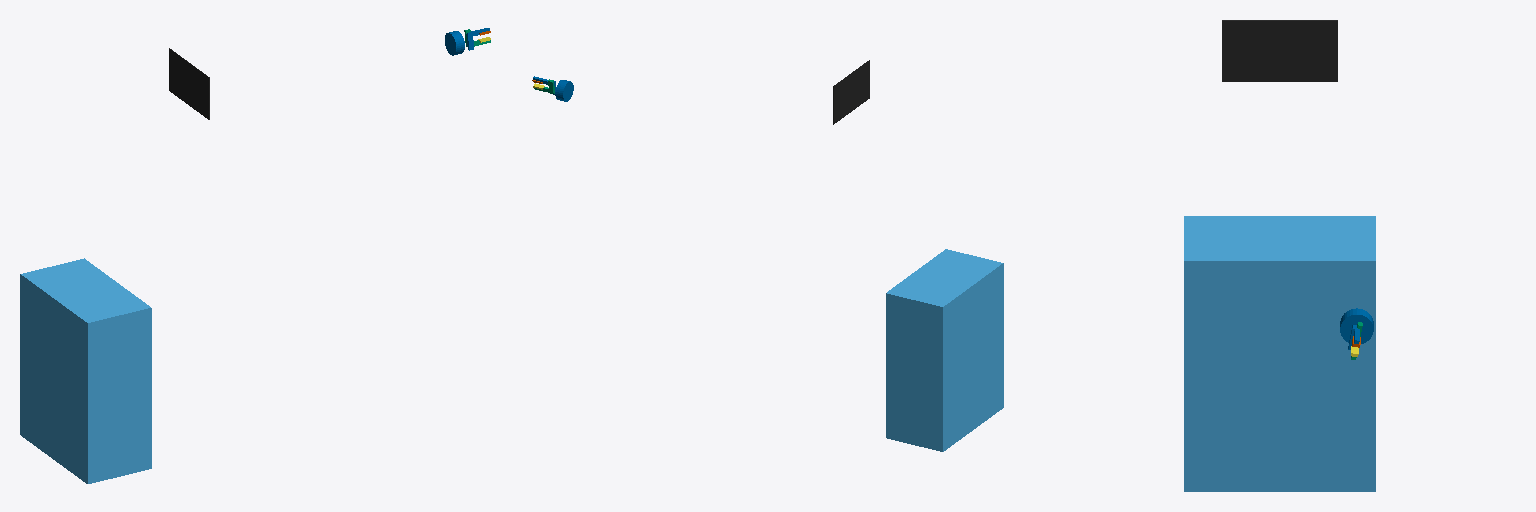
robot.urdf — sawyer:
<?xml version="1.0" encoding="UTF-8"?>
<robot name="sawyer">
  <material name="black">
    <color rgba="0 0 0 1"/>
  </material>
  <material name="darkgray">
    <color rgba=".2 .2 .2 1"/>
  </material>
  <material name="darkred">
    <color rgba=".5 .1 .1 1"/>
  </material>
  <material name="sawyer_red">
    <color rgba=".5 .1 .1 1"/>
  </material>
  <material name="sawyer_gray">
    <color rgba="0.75294 0.75294 0.75294 1"/>
  </material>
  <joint name="controller_box_fixed" type="fixed">
    <origin xyz="0. 0. 0." rpy="0. 0. 0."/>
    <parent link="base"/>
    <child link="controller_box"/>
  </joint>
  <joint name="display_joint" type="fixed">
    <origin xyz="0.03 0. 0.105" rpy="1.5707964 0. 1.5707964"/>
    <parent link="head"/>
    <child link="screen"/>
  </joint>
  <joint name="head_head_camera" type="fixed">
    <origin xyz="0.0228027 0. 0.216572 " rpy="-1.5707964 -0.5585038 -3.1415927"/>
    <parent link="head"/>
    <child link="sawyer_head_camera"/>
  </joint>
  <joint name="head_pan" type="revolute">
    <origin xyz="0. 0. 0.2965" rpy="0. 0. 0."/>
    <parent link="right_l0"/>
    <child link="head"/>
    <axis xyz="0. 0. 1."/>
    <limit lower="-5.0951997" upper="0.9064" effort="8." velocity="1.8"/>
  </joint>
  <joint name="pedestal_feet_fixed" type="fixed">
    <origin xyz="0. 0. 0." rpy="0. 0. 0."/>
    <parent link="base"/>
    <child link="pedestal_feet"/>
  </joint>
  <joint name="pedestal_fixed" type="fixed">
    <origin xyz="0. 0. 0." rpy="0. 0. 0."/>
    <parent link="base"/>
    <child link="pedestal"/>
  </joint>
  <joint name="right_arm_mount" type="fixed">
    <origin xyz="0. 0. 0." rpy="0. 0. 0."/>
    <parent link="base"/>
    <child link="right_arm_base_link"/>
  </joint>
  <joint name="right_connector_plate_base_joint" type="fixed">
    <origin xyz="0. 0. 0.0018" rpy="0. 0. 0."/>
    <parent link="right_gripper_base"/>
    <child link="right_connector_plate_base"/>
  </joint>
  <joint name="right_connector_plate_mount_joint" type="fixed">
    <origin xyz="0. 0. 0.0176" rpy="0. 0. 0."/>
    <parent link="right_connector_plate_base"/>
    <child link="right_connector_plate_mount"/>
  </joint>
  <joint name="right_electric_gripper_base_joint" type="fixed">
    <origin xyz="0. 0. 0." rpy="0. 0. 0."/>
    <parent link="right_connector_plate_mount"/>
    <child link="right_electric_gripper_base"/>
  </joint>
  <joint name="right_gripper_base_joint" type="fixed">
    <origin xyz="0. 0. -0.005" rpy="0. 0. 0."/>
    <parent link="sawyer_right_hand"/>
    <child link="right_gripper_base"/>
  </joint>
  <joint name="right_gripper_l_finger_joint" type="prismatic">
    <origin xyz="0.003 -0.0015 0.04552" rpy="0. 0. 0."/>
    <parent link="right_electric_gripper_base"/>
    <child link="right_gripper_l_finger"/>
    <axis xyz="0. 1. 0."/>
    <limit lower="0." upper="0.020833" effort="20." velocity="5."/>
  </joint>
  <joint name="right_gripper_l_finger_tip_joint" type="fixed">
    <origin xyz="0. 0.01725 0.075 " rpy="0. 0. 0."/>
    <parent link="right_gripper_l_finger"/>
    <child link="right_gripper_l_finger_tip"/>
  </joint>
  <joint name="right_gripper_r_finger_joint" type="prismatic">
    <origin xyz="0.003 0.0015 0.04552" rpy="0. 0. 0."/>
    <parent link="right_electric_gripper_base"/>
    <child link="right_gripper_r_finger"/>
    <axis xyz="0. 1. 0."/>
    <limit lower="-0.020833" upper="0." effort="0." velocity="5."/>
  </joint>
  <joint name="right_gripper_r_finger_tip_joint" type="fixed">
    <origin xyz="0. -0.01725 0.075 " rpy="0. 0. 0."/>
    <parent link="right_gripper_r_finger"/>
    <child link="right_gripper_r_finger_tip"/>
  </joint>
  <joint name="right_gripper_tip_joint" type="fixed">
    <origin xyz="0. 0. 0.14062" rpy="0. 0. 0."/>
    <parent link="right_gripper_base"/>
    <child link="right_gripper_tip"/>
  </joint>
  <joint name="right_j0" type="revolute">
    <origin xyz="0. 0. 0.08" rpy="0. 0. 0."/>
    <parent link="right_arm_base_link"/>
    <child link="right_l0"/>
    <axis xyz="0. 0. 1."/>
    <limit lower="-3.0502998" upper="3.0502998" effort="80." velocity="1.74"/>
  </joint>
  <joint name="right_j1" type="revolute">
    <origin xyz="0.081 0.05 0.237" rpy="-1.5707964 1.5707964 0. "/>
    <parent link="right_l0"/>
    <child link="right_l1"/>
    <axis xyz="0. 0. 1."/>
    <limit lower="-3.8094999" upper="2.2736" effort="80." velocity="1.3279999"/>
  </joint>
  <joint name="right_j1_2" type="fixed">
    <origin xyz="0. 0. 0." rpy="0. 0. 0."/>
    <parent link="right_l1"/>
    <child link="right_l1_2"/>
  </joint>
  <joint name="right_j2" type="revolute">
    <origin xyz="0. -0.14 0.1425" rpy="1.5707964 0. 0. "/>
    <parent link="right_l1"/>
    <child link="right_l2"/>
    <axis xyz="0. 0. 1."/>
    <limit lower="-3.0425998" upper="3.0425998" effort="40." velocity="1.957"/>
  </joint>
  <joint name="right_j2_2" type="fixed">
    <origin xyz="0. 0. 0." rpy="0. 0. 0."/>
    <parent link="right_l2"/>
    <child link="right_l2_2"/>
  </joint>
  <joint name="right_j3" type="revolute">
    <origin xyz="0. -0.042 0.26 " rpy="-1.5707964 0. 0. "/>
    <parent link="right_l2"/>
    <child link="right_l3"/>
    <axis xyz="0. 0. 1."/>
    <limit lower="-3.0438999" upper="3.0438999" effort="40." velocity="1.957"/>
  </joint>
  <joint name="right_j4" type="revolute">
    <origin xyz="0. -0.125 -0.1265" rpy="1.5707964 0. 0. "/>
    <parent link="right_l3"/>
    <child link="right_l4"/>
    <axis xyz="0. 0. 1."/>
    <limit lower="-2.9760998" upper="2.9760998" effort="9." velocity="3.4849998"/>
  </joint>
  <joint name="right_j4_2" type="fixed">
    <origin xyz="0. 0. 0." rpy="0. 0. 0."/>
    <parent link="right_l4"/>
    <child link="right_l4_2"/>
  </joint>
  <joint name="right_j5" type="revolute">
    <origin xyz="0. 0.031 0.275" rpy="-1.5707964 0. 0. "/>
    <parent link="right_l4"/>
    <child link="right_l5"/>
    <axis xyz="0. 0. 1."/>
    <limit lower="-2.9760998" upper="2.9760998" effort="9." velocity="3.4849998"/>
  </joint>
  <joint name="right_j6" type="revolute">
    <origin xyz="0. -0.11 0.1053" rpy="-1.5707963 -0.17453 -3.1415854"/>
    <parent link="right_l5"/>
    <child link="right_l6"/>
    <axis xyz="0. 0. 1."/>
    <limit lower="-4.7123996" upper="4.7123996" effort="9." velocity="4.5450003"/>
  </joint>
  <joint name="right_l0_right_torso_itb" type="fixed">
    <origin xyz="-0.055 0. 0.22 " rpy="0. -1.5707963 0. "/>
    <parent link="right_l0"/>
    <child link="sawyer_right_torso_itb"/>
  </joint>
  <joint name="right_l4_right_arm_itb" type="fixed">
    <origin xyz="-0.055 0. 0.075" rpy="0. -1.5707963 0. "/>
    <parent link="right_l4"/>
    <child link="sawyer_right_arm_itb"/>
  </joint>
  <joint name="right_l5_right_hand_camera" type="fixed">
    <origin xyz="0.039552 -0.033 0.0695 " rpy="3.1415927 0. 3.1415927"/>
    <parent link="right_l5"/>
    <child link="sawyer_right_hand_camera"/>
  </joint>
  <joint name="right_l5_right_wrist" type="fixed">
    <origin xyz="0. 0. 0.10541" rpy="1.5707964 0. 1.5707964"/>
    <parent link="right_l5"/>
    <child link="sawyer_right_wrist"/>
  </joint>
  <joint name="right_l6_right_hand" type="fixed">
    <origin xyz="0. 0. 0.0245" rpy="0. 0. 1.570796"/>
    <parent link="right_l6"/>
    <child link="sawyer_right_hand"/>
  </joint>
  <joint name="root_joint" type="fixed">
    <origin xyz="0. 0. 0." rpy="0. 0. 0."/>
    <parent link="sawyer"/>
    <child link="base"/>
  </joint>
  <joint name="torso_t0" type="fixed">
    <origin xyz="0. 0. 0." rpy="0. 0. 0."/>
    <parent link="base"/>
    <child link="torso"/>
  </joint>
  <link name="base"/>
  <link name="controller_box">
    <inertial>
      <origin xyz="0. 0. 0." rpy="0. 0. 0."/>
      <mass value="0.000001"/>
      <inertia ixx="0." ixy="0." ixz="0." iyy="0." iyz="0." izz="0."/>
    </inertial>
    <visual>
      <origin xyz="-0.325 0. -0.38 " rpy="0. 0. 0."/>
      <geometry>
        <box size="0.22 0.4 0.53"/>
      </geometry>
    </visual>
    <collision>
      <origin xyz="-0.325 0. -0.38 " rpy="0. 0. 0."/>
      <geometry>
        <box size="0.22 0.4 0.53"/>
      </geometry>
    </collision>
  </link>
  <link name="head">
    <inertial>
      <origin xyz="0. 0. 0." rpy="0. 0. 0."/>
      <mass value="1.5795"/>
      <inertia ixx="0." ixy="0." ixz="0." iyy="0." iyz="0." izz="0."/>
    </inertial>
    <visual>
      <origin xyz="0. 0. 0." rpy="0. 0. 0."/>
      <geometry>
        <mesh filename="meshes/head_visuals.obj" scale="1. 1. 1."/>
      </geometry>
    </visual>
    <collision>
      <origin xyz="0. 0. 0.08" rpy="0. 0. 0."/>
      <geometry>
        <sphere radius="0.18"/>
      </geometry>
    </collision>
  </link>
  <link name="pedestal">
    <inertial>
      <origin xyz="0. 0. 0." rpy="0. 0. 0."/>
      <mass value="60.8639793"/>
      <inertia ixx="0." ixy="0." ixz="0." iyy="0." iyz="0." izz="0."/>
    </inertial>
    <visual>
      <origin xyz="0.26 0.345 -0.91488" rpy="1.5707964 0. -1.5707964"/>
      <geometry>
        <mesh filename="meshes/pedestal_visuals.obj" scale="1. 1. 1."/>
      </geometry>
      <material name="darkgray"/>
    </visual>
    <collision>
      <origin xyz="-0.02 0. -0.29" rpy="0. 0. 0."/>
      <geometry>
        <cylinder radius="0.18" length="0.62"/>
      </geometry>
    </collision>
  </link>
  <link name="pedestal_feet">
    <inertial>
      <origin xyz="0. 0. 0." rpy="0. 0. 0."/>
      <mass value="0.000001"/>
      <inertia ixx="0." ixy="0." ixz="0." iyy="0." iyz="0." izz="0."/>
    </inertial>
    <collision>
      <origin xyz="-0.1225 0. -0.758 " rpy="0. 0. 0."/>
      <geometry>
        <box size="0.77 0.7 0.31"/>
      </geometry>
    </collision>
  </link>
  <link name="right_arm_base_link">
    <inertial>
      <origin xyz="0. 0. 0." rpy="0. 0. 0."/>
      <mass value="2.0687001"/>
      <inertia ixx="0." ixy="0." ixz="0." iyy="0." iyz="0." izz="0."/>
    </inertial>
    <visual>
      <origin xyz="0. 0. 0." rpy="0. 0. 0."/>
      <geometry>
        <mesh filename="meshes/right_arm_base_link_visuals.obj" scale="1. 1. 1."/>
      </geometry>
      <material name="sawyer_red"/>
    </visual>
    <collision>
      <origin xyz="0. 0. 0.12" rpy="0. 0. 0."/>
      <geometry>
        <cylinder radius="0.08" length="0.24"/>
      </geometry>
    </collision>
  </link>
  <link name="right_connector_plate_base">
    <visual>
      <origin xyz="0. 0. 0." rpy="0. 0. 0."/>
      <geometry>
        <mesh filename="meshes/right_connector_plate_base_visuals.obj" scale="1. 1. 1."/>
      </geometry>
      <material name="black">
        <color rgba="0.05 0.05 0.05 1"/>
      </material>
    </visual>
    <collision>
      <origin xyz="0. 0. 0.0135" rpy="0. 0. 0."/>
      <geometry>
        <cylinder radius="0.04" length="0.0302"/>
      </geometry>
      <material name="darkred">
        <color rgba=".5 .1 .1 1"/>
      </material>
    </collision>
  </link>
  <link name="right_connector_plate_mount">
    <inertial>
      <origin xyz="0. 0. 0." rpy="0. 0. 0."/>
      <mass value="0.000001"/>
      <inertia ixx="0." ixy="0." ixz="0." iyy="0." iyz="0." izz="0."/>
    </inertial>
  </link>
  <link name="right_electric_gripper_base">
    <inertial>
      <origin xyz="0. 0. 0." rpy="0. 0. 0."/>
      <mass value="0.000002"/>
      <inertia ixx="0." ixy="0." ixz="0." iyy="0." iyz="0." izz="0."/>
    </inertial>
    <visual>
      <origin xyz="0. 0. 0." rpy="0. 0. 0."/>
      <geometry>
        <mesh filename="meshes/right_electric_gripper_base_visuals.obj" scale="1. 1. 1."/>
      </geometry>
            <material name="darkred">
        <color rgba=".5 .1 .1 1"/>
      </material>
    </visual>
    <collision>
      <origin xyz="0.004 0. 0.025" rpy="1.5707964 -0.0000001 3.1415927"/>
      <geometry>
        <cylinder radius="0.029" length="0.1"/>
      </geometry>
    </collision>
  </link>
  <link name="right_gripper_base">
    <inertial>
      <origin xyz="0. 0. 0." rpy="0. 0. 0."/>
      <mass value="0.47"/>
      <inertia ixx="0." ixy="0." ixz="0." iyy="0." iyz="0." izz="0."/>
    </inertial>
  </link>
  <link name="right_gripper_l_finger">
    <inertial>
      <origin xyz="0. 0. 0." rpy="0. 0. 0."/>
      <mass value="0.001"/>
      <inertia ixx="0." ixy="0." ixz="0." iyy="0." iyz="0." izz="0."/>
    </inertial>
    <visual>
      <origin xyz="0. 0. 0." rpy="0. 0. 3.1415925"/>
      <geometry>
        <mesh filename="meshes/right_gripper_l_finger_visuals.obj" scale="1. 1. 1."/>
      </geometry>
    </visual>
    <visual>
      <origin xyz="0. 0.01725 0.04 " rpy="0. 0. 3.1415925"/>
      <geometry>
        <box size="0.01 0.0135 0.075 "/>
      </geometry>
    </visual>
    <visual>
      <origin xyz="-0.005 -0.003 0.0083" rpy="0. 0. 3.1415925"/>
      <geometry>
        <box size="0.01 0.05 0.017"/>
      </geometry>
    </visual>
    <collision>
      <origin xyz="0. 0.01725 0.04 " rpy="0. 0. 3.1415925"/>
      <geometry>
        <box size="0.01 0.0135 0.075 "/>
      </geometry>
    </collision>
    <collision>
      <origin xyz="-0.005 -0.003 0.0083" rpy="0. 0. 3.1415925"/>
      <geometry>
        <box size="0.01 0.05 0.017"/>
      </geometry>
    </collision>
  </link>
  <link name="right_gripper_l_finger_tip">
    <inertial>
      <origin xyz="0. 0. 0." rpy="0. 0. 0."/>
      <mass value="0.001"/>
      <inertia ixx="0." ixy="0." ixz="0." iyy="0." iyz="0." izz="0."/>
    </inertial>
    <visual>
      <origin xyz="0. 0. 0." rpy="0. 0. -3.1415925"/>
      <geometry>
        <mesh filename="meshes/right_gripper_l_finger_tip_visuals.obj" scale="1. 1. 1."/>
      </geometry>
    </visual>
    <visual>
      <origin xyz="0. -0.0045 -0.015 " rpy="0. 0. -3.1415925"/>
      <geometry>
        <box size="0.016 0.007 0.037"/>
      </geometry>
    </visual>
    <collision>
      <origin xyz="0. -0.0045 -0.015 " rpy="0. 0. -3.1415925"/>
      <geometry>
        <box size="0.016 0.007 0.037"/>
      </geometry>
    </collision>
  </link>
  <link name="right_gripper_r_finger">
    <inertial>
      <origin xyz="0. 0. 0." rpy="0. 0. 0."/>
      <mass value="0.001"/>
      <inertia ixx="0." ixy="0." ixz="0." iyy="0." iyz="0." izz="0."/>
    </inertial>
    <visual>
      <origin xyz="0. 0. 0." rpy="0. 0. 0."/>
      <geometry>
        <mesh filename="meshes/right_gripper_r_finger_visuals.obj" scale="1. 1. 1."/>
      </geometry>
    </visual>
    <visual>
      <origin xyz="0. -0.01725 0.04 " rpy="0. 0. 0."/>
      <geometry>
        <box size="0.01 0.0135 0.075 "/>
      </geometry>
    </visual>
    <visual>
      <origin xyz="0.005 0.003 0.0083" rpy="0. 0. 0."/>
      <geometry>
        <box size="0.01 0.05 0.017"/>
      </geometry>
    </visual>
    <collision>
      <origin xyz="0. -0.01725 0.04 " rpy="0. 0. 0."/>
      <geometry>
        <box size="0.01 0.0135 0.075 "/>
      </geometry>
    </collision>
    <collision>
      <origin xyz="0.005 0.003 0.0083" rpy="0. 0. 0."/>
      <geometry>
        <box size="0.01 0.05 0.017"/>
      </geometry>
    </collision>
  </link>
  <link name="right_gripper_r_finger_tip">
    <inertial>
      <origin xyz="0. 0. 0." rpy="0. 0. 0."/>
      <mass value="0.001"/>
      <inertia ixx="0." ixy="0." ixz="0." iyy="0." iyz="0." izz="0."/>
    </inertial>
    <visual>
      <origin xyz="0. 0. 0." rpy="0. 0. 0."/>
      <geometry>
        <mesh filename="meshes/right_gripper_r_finger_tip_visuals.obj" scale="1. 1. 1."/>
      </geometry>
    </visual>
    <visual>
      <origin xyz="0. 0.0045 -0.015 " rpy="0. 0. 0."/>
      <geometry>
        <box size="0.016 0.007 0.037"/>
      </geometry>
    </visual>
    <collision>
      <origin xyz="0. 0.0045 -0.015 " rpy="0. 0. 0."/>
      <geometry>
        <box size="0.016 0.007 0.037"/>
      </geometry>
    </collision>
  </link>
  <link name="right_gripper_tip">
    <inertial>
      <origin xyz="0. 0. 0." rpy="0. 0. 0."/>
      <mass value="0.000002"/>
      <inertia ixx="0." ixy="0." ixz="0." iyy="0." iyz="0." izz="0."/>
    </inertial>
  </link>
  <link name="right_l0">
    <inertial>
      <origin xyz="0. 0. 0." rpy="0. 0. 0."/>
      <mass value="5.3213"/>
      <inertia ixx="0." ixy="0." ixz="0." iyy="0." iyz="0." izz="0."/>
    </inertial>
    <visual>
      <origin xyz="0. 0. 0." rpy="0. 0. 0."/>
      <geometry>
        <mesh filename="meshes/right_l0_visuals.obj" scale="1. 1. 1."/>
      </geometry>
      <material name="sawyer_red"/>
    </visual>
    <collision>
      <origin xyz="0.08 0. 0.23" rpy="0. 0. 0."/>
      <geometry>
        <sphere radius="0.07"/>
      </geometry>
    </collision>
  </link>
  <link name="right_l1">
    <inertial>
      <origin xyz="0. 0. 0." rpy="0. 0. 0."/>
      <mass value="4.5050001"/>
      <inertia ixx="0." ixy="0." ixz="0." iyy="0." iyz="0." izz="0."/>
    </inertial>
    <visual>
      <origin xyz="0. 0. 0." rpy="0. 0. 0."/>
      <geometry>
        <mesh filename="meshes/right_l1_visuals.obj" scale="1. 1. 1."/>
      </geometry>
      <material name="sawyer_red"/>
    </visual>
    <collision>
      <origin xyz="0. 0. 0.1225" rpy="0. 0. 0."/>
      <geometry>
        <sphere radius="0.07"/>
      </geometry>
    </collision>
  </link>
  <link name="right_l1_2">
    <inertial>
      <origin xyz="0. 0. 0." rpy="0. 0. 0."/>
      <mass value="0."/>
      <inertia ixx="0." ixy="0." ixz="0." iyy="0." iyz="0." izz="0."/>
    </inertial>
    <collision>
      <origin xyz="0. 0. 0.035" rpy="0. 0. 0."/>
      <geometry>
        <cylinder radius="0.07" length="0.14"/>
      </geometry>
    </collision>
  </link>
  <link name="right_l2">
    <inertial>
      <origin xyz="0. 0. 0." rpy="0. 0. 0."/>
      <mass value="1.745"/>
      <inertia ixx="0." ixy="0." ixz="0." iyy="0." iyz="0." izz="0."/>
    </inertial>
    <visual>
      <origin xyz="0. 0. 0." rpy="0. 0. 0."/>
      <geometry>
        <mesh filename="meshes/right_l2_visuals.obj" scale="1. 1. 1."/>
      </geometry>
      <material name="sawyer_red"/>
    </visual>
    <collision>
      <origin xyz="0. 0. 0.08" rpy="0. 0. 0."/>
      <geometry>
        <cylinder radius="0.06" length="0.34"/>
      </geometry>
    </collision>
  </link>
  <link name="right_l2_2">
    <inertial>
      <origin xyz="0. 0. 0." rpy="0. 0. 0."/>
      <mass value="0."/>
      <inertia ixx="0." ixy="0." ixz="0." iyy="0." iyz="0." izz="0."/>
    </inertial>
    <collision>
      <origin xyz="0. 0. 0.26" rpy="0. 0. 0."/>
      <geometry>
        <sphere radius="0.06"/>
      </geometry>
    </collision>
  </link>
  <link name="right_l3">
    <inertial>
      <origin xyz="0. 0. 0." rpy="0. 0. 0."/>
      <mass value="2.5097001"/>
      <inertia ixx="0." ixy="0." ixz="0." iyy="0." iyz="0." izz="0."/>
    </inertial>
    <visual>
      <origin xyz="0. 0. 0." rpy="0. 0. 0."/>
      <geometry>
        <mesh filename="meshes/right_l3_visuals.obj" scale="1. 1. 1."/>
      </geometry>
      <material name="sawyer_red"/>
    </visual>
    <collision>
      <origin xyz="0. -0.01 -0.12" rpy="0. 0. 0."/>
      <geometry>
        <sphere radius="0.06"/>
      </geometry>
    </collision>
  </link>
  <link name="right_l4">
    <inertial>
      <origin xyz="0. 0. 0." rpy="0. 0. 0."/>
      <mass value="1.1136"/>
      <inertia ixx="0." ixy="0." ixz="0." iyy="0." iyz="0." izz="0."/>
    </inertial>
    <visual>
      <origin xyz="0. 0. 0." rpy="0. 0. 0."/>
      <geometry>
        <mesh filename="meshes/right_l4_visuals.obj" scale="1. 1. 1."/>
      </geometry>
      <material name="sawyer_red"/>
    </visual>
    <collision>
      <origin xyz="0. 0. 0.11" rpy="0. 0. 0."/>
      <geometry>
        <cylinder radius="0.045" length="0.3"/>
      </geometry>
    </collision>
  </link>
  <link name="right_l4_2">
    <inertial>
      <origin xyz="0. 0. 0." rpy="0. 0. 0."/>
      <mass value="0."/>
      <inertia ixx="0." ixy="0." ixz="0." iyy="0." iyz="0." izz="0."/>
    </inertial>
    <collision>
      <origin xyz="0. 0.01 0.26" rpy="0. 0. 0."/>
      <geometry>
        <sphere radius="0.06"/>
      </geometry>
    </collision>
  </link>
  <link name="right_l5">
    <inertial>
      <origin xyz="0. 0. 0." rpy="0. 0. 0."/>
      <mass value="1.5625"/>
      <inertia ixx="0." ixy="0." ixz="0." iyy="0." iyz="0." izz="0."/>
    </inertial>
    <visual>
      <origin xyz="0. 0. 0." rpy="0. 0. 0."/>
      <geometry>
        <mesh filename="meshes/right_l5_visuals.obj" scale="1. 1. 1."/>
      </geometry>
      <material name="sawyer_red"/>
    </visual>
    <collision>
      <origin xyz="0. 0. 0.1" rpy="0. 0. 0."/>
      <geometry>
        <sphere radius="0.06"/>
      </geometry>
    </collision>
  </link>
  <link name="right_l6">
    <inertial>
      <origin xyz="0. 0. 0." rpy="0. 0. 0."/>
      <mass value="0.3292"/>
      <inertia ixx="0." ixy="0." ixz="0." iyy="0." iyz="0." izz="0."/>
    </inertial>
    <visual>
      <origin xyz="0. 0. 0." rpy="0. 0. 0."/>
      <geometry>
        <mesh filename="meshes/right_l6_visuals.obj" scale="1. 1. 1."/>
      </geometry>
      <material name="sawyer_red"/>
    </visual>
    <collision>
      <origin xyz="0. 0.015 -0.01 " rpy="0. 0. 0."/>
      <geometry>
        <cylinder radius="0.055" length="0.05"/>
      </geometry>
    </collision>
  </link>
  <link name="sawyer"/>
  <link name="sawyer_head_camera">
    <inertial>
      <origin xyz="0. 0. 0." rpy="0. 0. 0."/>
      <mass value="0.000001"/>
      <inertia ixx="0." ixy="0." ixz="0." iyy="0." iyz="0." izz="0."/>
    </inertial>
  </link>
  <link name="sawyer_right_arm_itb">
    <inertial>
      <origin xyz="0. 0. 0." rpy="0. 0. 0."/>
      <mass value="0.0001"/>
      <inertia ixx="0." ixy="0." ixz="0." iyy="0." iyz="0." izz="0."/>
    </inertial>
  </link>
  <link name="sawyer_right_hand">
    <inertial>
      <origin xyz="0. 0. 0." rpy="0. 0. 0."/>
      <mass value="0."/>
      <inertia ixx="0." ixy="0." ixz="0." iyy="0." iyz="0." izz="0."/>
    </inertial>
    <visual>
      <origin xyz="0. 0. 0.02" rpy="0. 0. 0."/>
      <geometry>
        <cylinder radius="0.035" length="0.03"/>
      </geometry>
    </visual>
    <collision>
      <origin xyz="0. 0. 0.02" rpy="0. 0. 0."/>
      <geometry>
        <cylinder radius="0.035" length="0.03"/>
      </geometry>
    </collision>
  </link>
  <link name="sawyer_right_hand_camera">
    <inertial>
      <origin xyz="0. 0. 0." rpy="0. 0. 0."/>
      <mass value="0.000001"/>
      <inertia ixx="0." ixy="0." ixz="0." iyy="0." iyz="0." izz="0."/>
    </inertial>
  </link>
  <link name="sawyer_right_torso_itb">
    <inertial>
      <origin xyz="0. 0. 0." rpy="0. 0. 0."/>
      <mass value="0.0001"/>
      <inertia ixx="0." ixy="0." ixz="0." iyy="0." iyz="0." izz="0."/>
    </inertial>
  </link>
  <link name="sawyer_right_wrist">
    <inertial>
      <origin xyz="0. 0. 0." rpy="0. 0. 0."/>
      <mass value="0.000001"/>
      <inertia ixx="0." ixy="0." ixz="0." iyy="0." iyz="0." izz="0."/>
    </inertial>
  </link>
  <link name="screen">
    <inertial>
      <origin xyz="0. 0. 0." rpy="0. 0. 0."/>
      <mass value="0.0001"/>
      <inertia ixx="0." ixy="0." ixz="0." iyy="0." iyz="0." izz="0."/>
    </inertial>
    <visual>
      <origin xyz="0. 0. 0." rpy="0. 0. 0."/>
      <geometry>
        <box size="0.24 0.14 0.002"/>
      </geometry>
      <material name="darkgray"/>
    </visual>
    <visual>
      <origin xyz="0. 0. 0." rpy="0. 0. 0."/>
      <geometry>
        <sphere radius="0.001"/>
      </geometry>
    </visual>
    <collision>
      <origin xyz="0. 0. 0." rpy="0. 0. 0."/>
      <geometry>
        <sphere radius="0.001"/>
      </geometry>
    </collision>
  </link>
  <link name="torso">
    <inertial>
      <origin xyz="0. 0. 0." rpy="0. 0. 0."/>
      <mass value="0.0001"/>
      <inertia ixx="0." ixy="0." ixz="0." iyy="0." iyz="0." izz="0."/>
    </inertial>
    <visual>
      <origin xyz="0. 0. 0." rpy="0. 0. 0."/>
      <geometry>
        <box size="0.001 0.001 0.001"/>
      </geometry>
      <material name="darkgray">
        <color rgba=".2 .2 .2 1"/>
      </material>
    </visual>
  </link>
</robot>

--- Render facts (derived) ---
The picture shows the robot from 3 angles, left to right: view 1: azimuth 30°, elevation 25°; view 2: azimuth 150°, elevation 25°; view 3: azimuth 270°, elevation 25°; orthographic projection.
Robot: sawyer — 34 links, 33 joints (8 revolute, 2 prismatic, 23 fixed); root link sawyer; default pose: every joint at zero.
Links seen in each view (by area): view 1: controller_box, screen; view 2: controller_box, screen; view 3: controller_box, screen, sawyer_right_hand.
Link boxes in pixels (x1,y1,x2,y2): controller_box: (20, 258, 151, 483); screen: (169, 48, 209, 119); controller_box: (886, 249, 1003, 451); screen: (833, 60, 869, 124); controller_box: (1184, 216, 1375, 491); screen: (1222, 20, 1337, 81); sawyer_right_hand: (1340, 308, 1373, 343).
Size in the robot's own frame: 1.59 by 0.4 by 1.2 metres.
0 mesh visuals loaded from 16 distinct referenced files (none loaded); not drawn: 2 (reference not matched to a file when rendering), 14 (file found but could not be loaded).